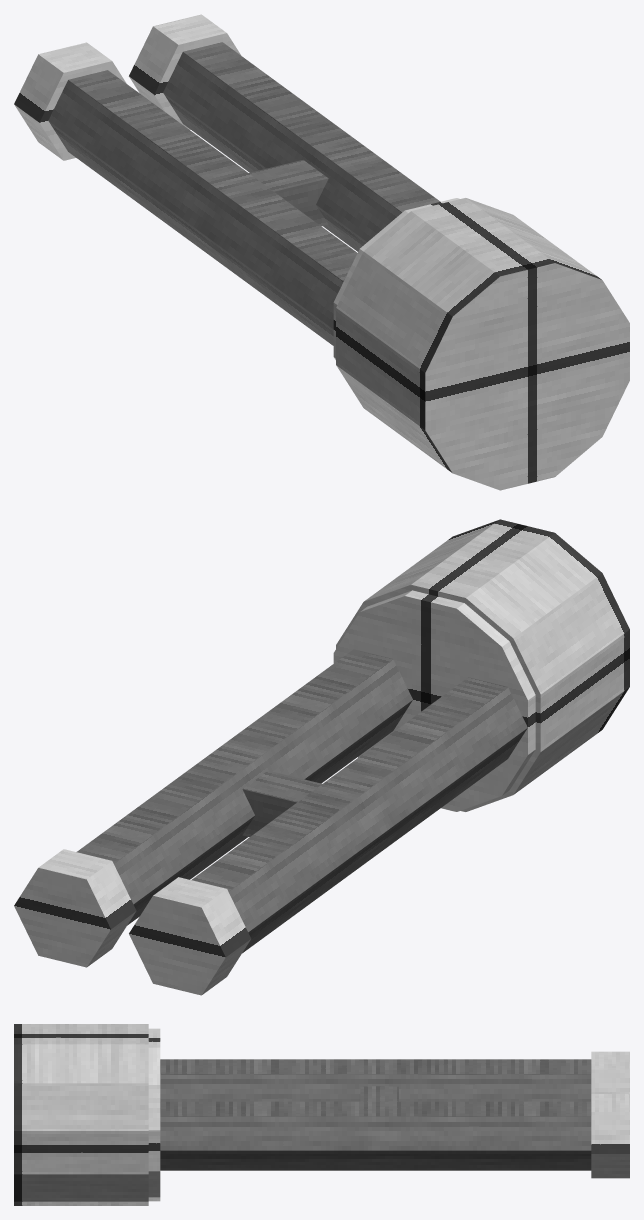
Rendered from twin_barrel_round_aphelion.glb.
3 views of the same model, one above another, from view 1: azimuth 30°, elevation 25°; view 2: azimuth 150°, elevation 25°; view 3: azimuth 270°, elevation 25° (orthographic). The views are drawn at different scales.
Parts seen in each view (by area): view 1: receiver, barrel, barrel.001, muzzle, muzzle.001, brace, receiver_face; view 2: barrel, receiver, barrel.001, receiver_face, muzzle, muzzle.001, brace; view 3: barrel.001, receiver, barrel, muzzle.001, receiver_face, muzzle, brace.
Part boxes in pixels (left/top/right/bottom): receiver: left=336, top=198, right=629, bottom=490; barrel: left=48, top=70, right=357, bottom=345; barrel.001: left=163, top=42, right=440, bottom=251; muzzle: left=14, top=42, right=126, bottom=160; muzzle.001: left=129, top=14, right=241, bottom=129; brace: left=249, top=160, right=328, bottom=226; receiver_face: left=333, top=198, right=459, bottom=359; barrel: left=191, top=677, right=527, bottom=953; receiver: left=336, top=519, right=629, bottom=811; barrel.001: left=76, top=649, right=412, bottom=925; receiver_face: left=333, top=590, right=535, bottom=811; muzzle: left=129, top=877, right=251, bottom=995; muzzle.001: left=14, top=849, right=136, bottom=967; brace: left=242, top=770, right=321, bottom=836; barrel.001: left=160, top=1101, right=591, bottom=1170; receiver: left=14, top=1024, right=148, bottom=1205; barrel: left=160, top=1059, right=591, bottom=1101; muzzle.001: left=591, top=1094, right=629, bottom=1178; receiver_face: left=148, top=1028, right=160, bottom=1201; muzzle: left=591, top=1051, right=629, bottom=1093; brace: left=360, top=1086, right=398, bottom=1101.
Size of the model in its own units: 9.6 by 9.27 by 32.
3 materials, 3 textured.
